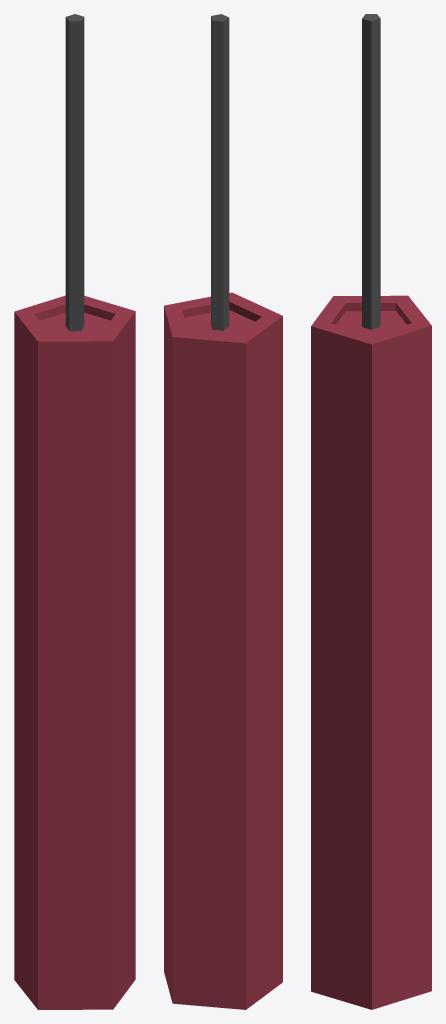
File: dynamite-a.glb
The picture shows the model from 3 angles, left to right: view 1: azimuth 90°, elevation 25°; view 2: azimuth 150°, elevation 25°; view 3: azimuth 270°, elevation 25°; orthographic projection.
Parts seen in each view (by area): view 1: Dynamite A (×2); view 2: Dynamite A (×2); view 3: Dynamite A (×2).
Part boxes in pixels (bbox=[...]): Dynamite A (×2): bbox=[14, 14, 135, 1009]; Dynamite A (×2): bbox=[164, 14, 282, 1009]; Dynamite A (×2): bbox=[311, 14, 431, 1009].
Size of the model in its own units: 0.0522 by 0.4818 by 0.0547.
